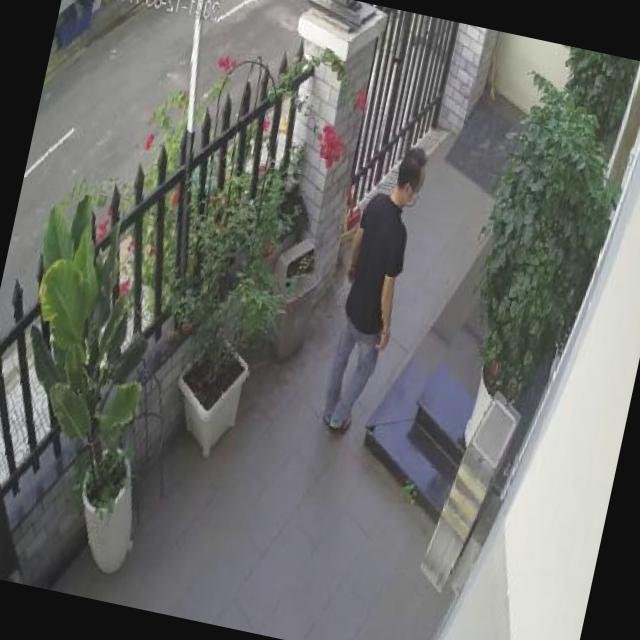Person: (311, 138, 429, 438)
